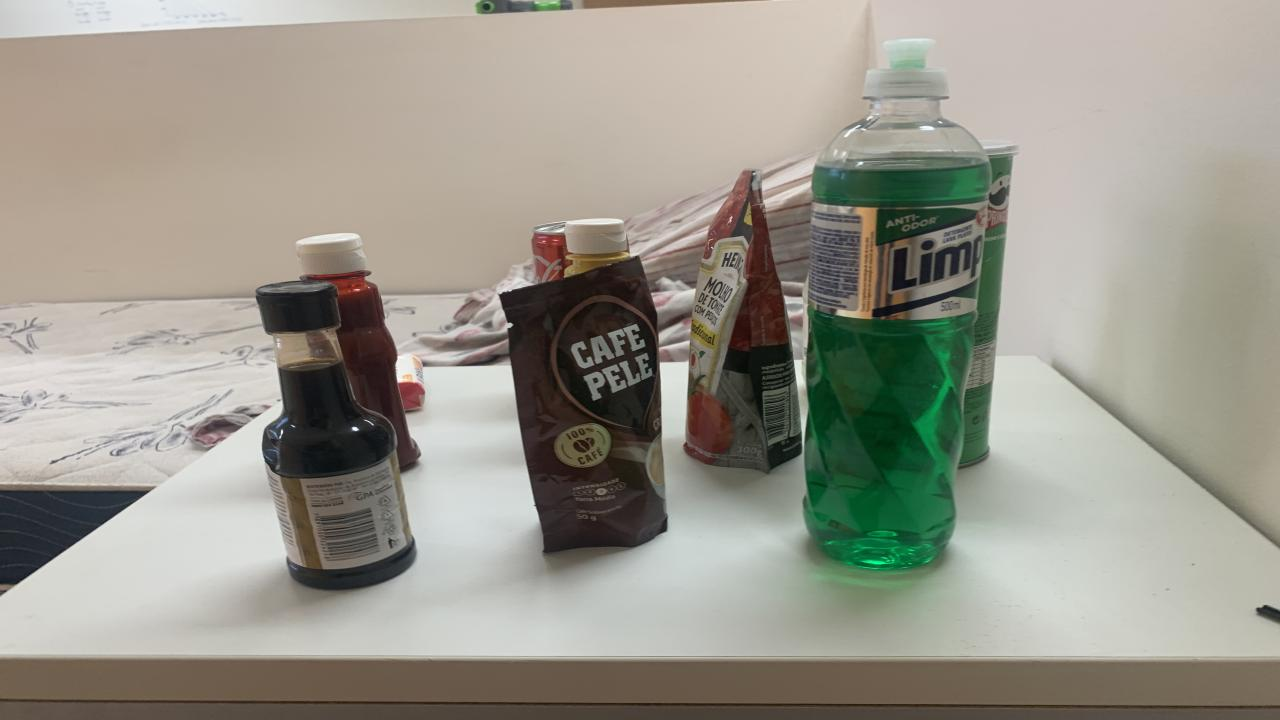Coffee-Pantry_Items: (500, 257, 668, 551)
Coke-Drinks: (532, 221, 570, 283)
Detergent-Cleanup_Items: (805, 39, 990, 570)
English_Sauce-Pantry_Items: (258, 279, 415, 589)
Ketchup-Pantry_Items: (298, 232, 420, 467)
Mustard-Pantry_Items: (565, 218, 630, 278)
Pringles-Snacks: (960, 139, 1018, 467)
Soap-Cleanup_Items: (395, 354, 425, 411)
Tomato_Sauce-Pantry_Items: (685, 171, 802, 472)
